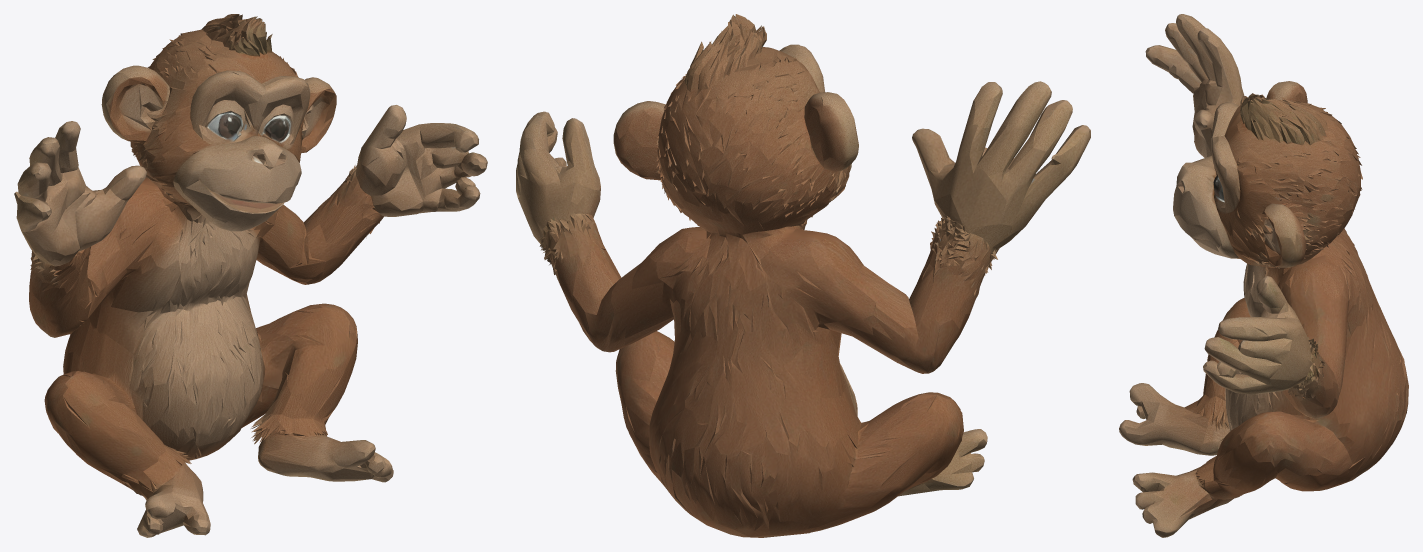
File: scimmia.glb
3 views of the same model, side by side, from view 1: azimuth 30°, elevation 25°; view 2: azimuth 150°, elevation 25°; view 3: azimuth 270°, elevation 25° (orthographic). The views are drawn at different scales.
Size of the model in its own units: 1.9 by 1.66 by 1.07.
Materials: 1 (1 with a texture image).
